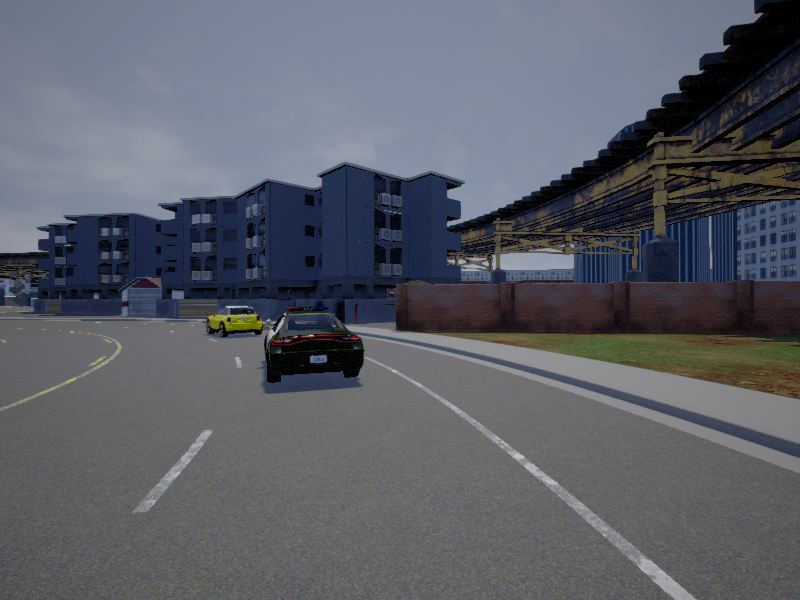Benign: (263, 307, 368, 385), (206, 306, 266, 340)
